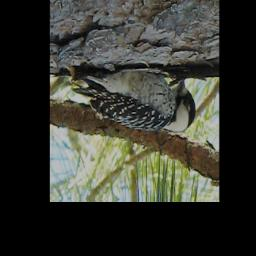Woodpecker: (69, 66, 197, 134)
